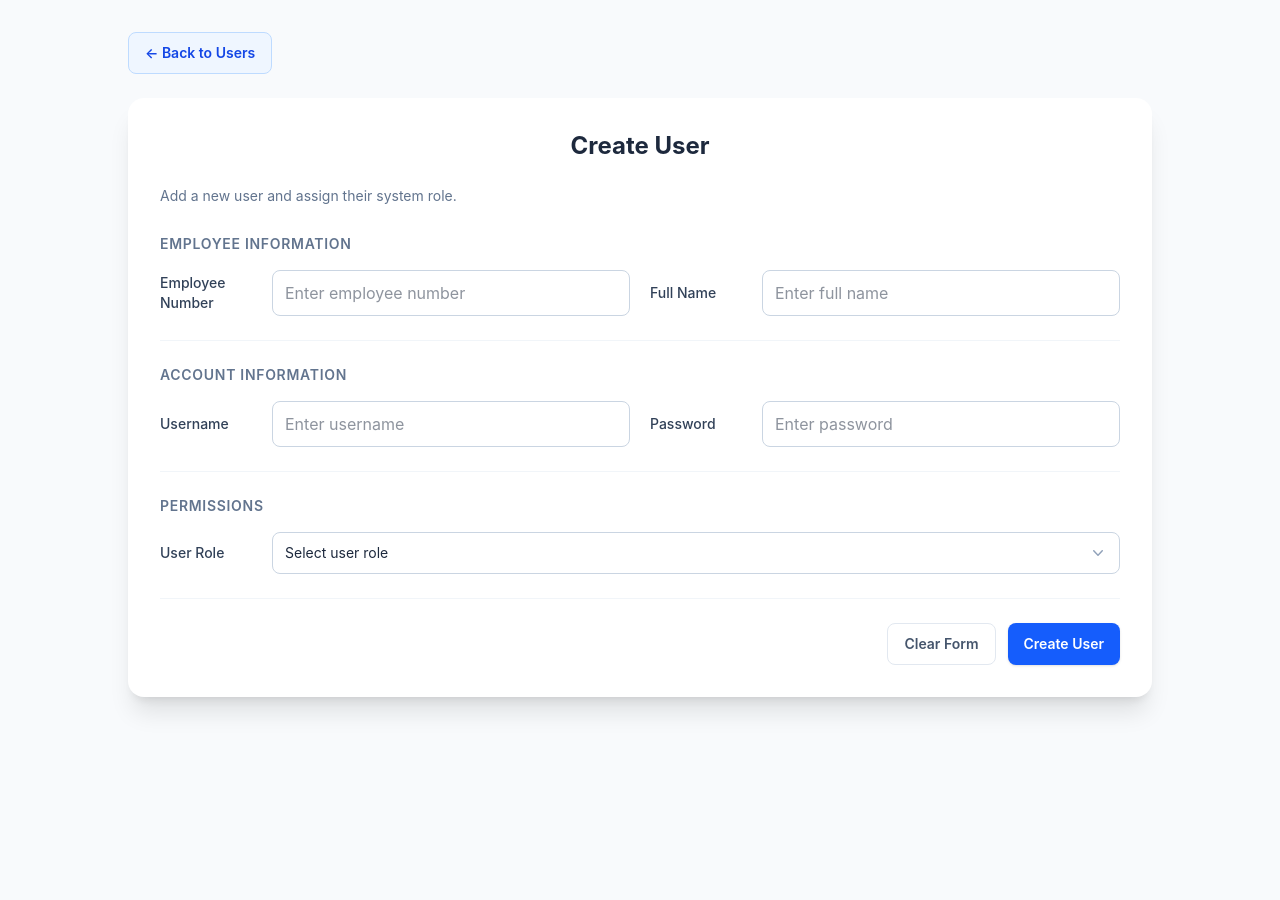
Test case: CreateUser page › shows a create error and preserves the form when the API fails
The width and height of the screenshot is (1280, 900).
Type "EMP-2021" into the field labelled "Employee Number" at (451, 293), box [272,270,630,316]
Type "Taylor Technician" into the field labelled "Full Name" at (941, 293), box [762,270,1120,316]
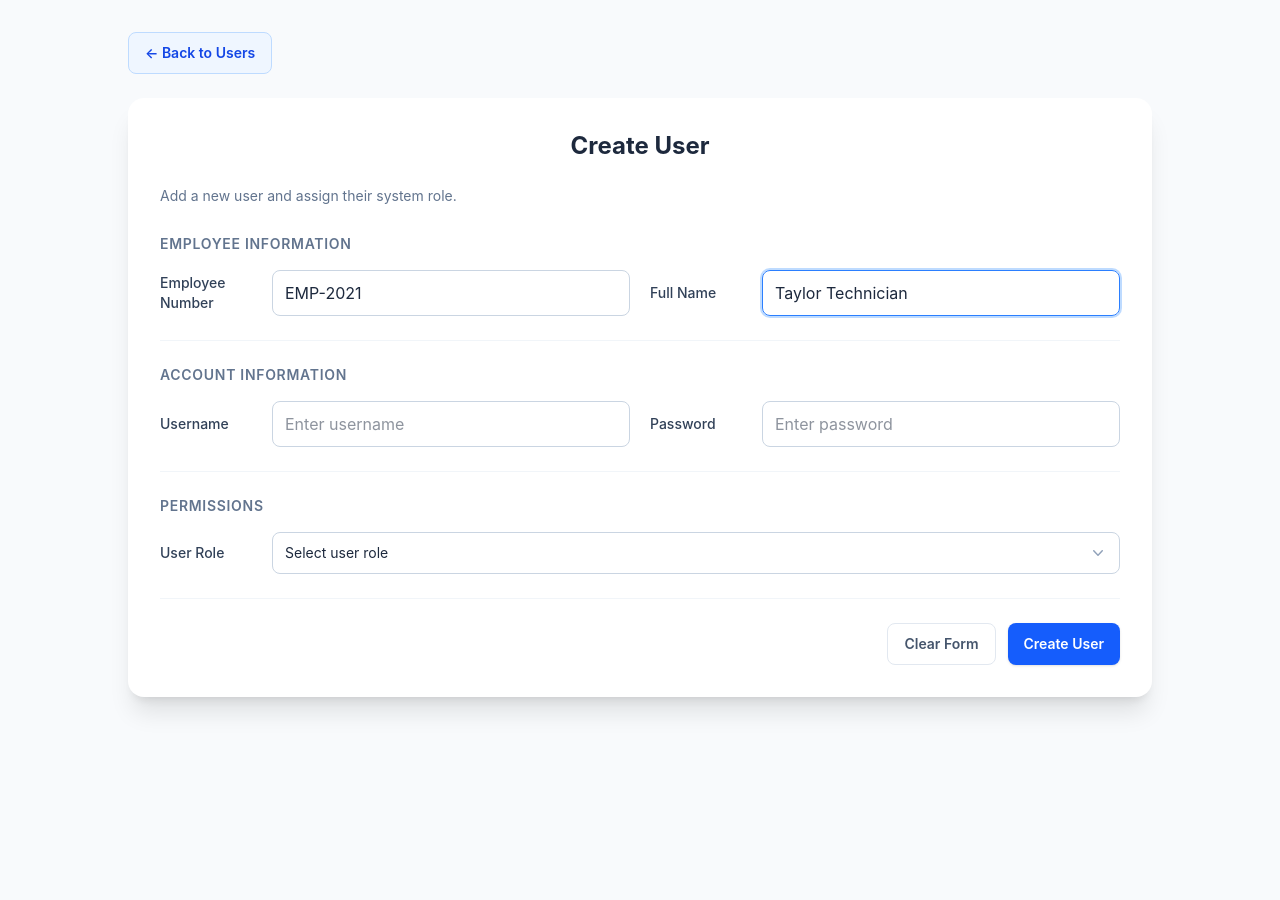
Type "taylor.t" into the field labelled "Username" at (451, 424), box [272,401,630,447]
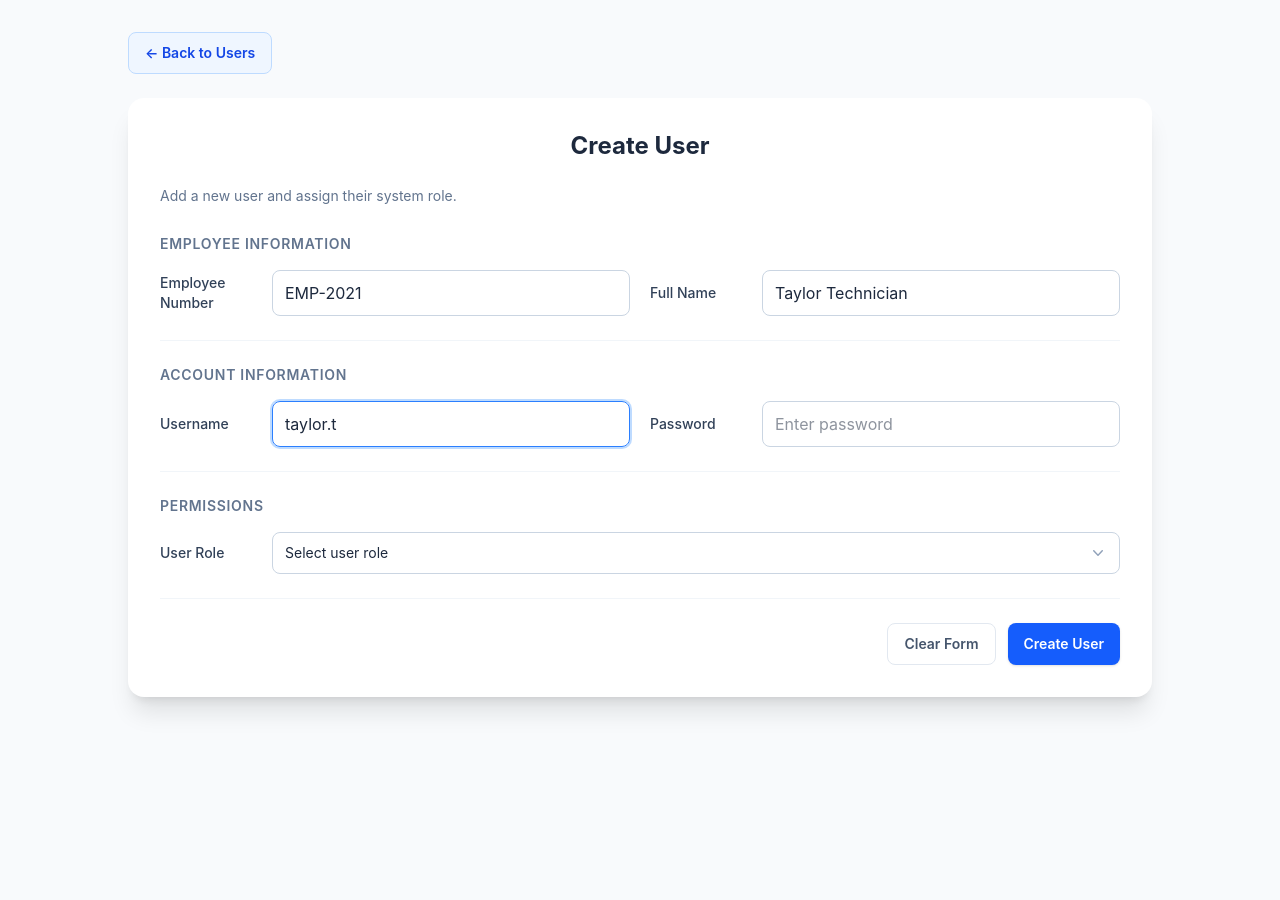
Type "secure-password" into the password field labelled "Password" at (941, 424), box [762,401,1120,447]
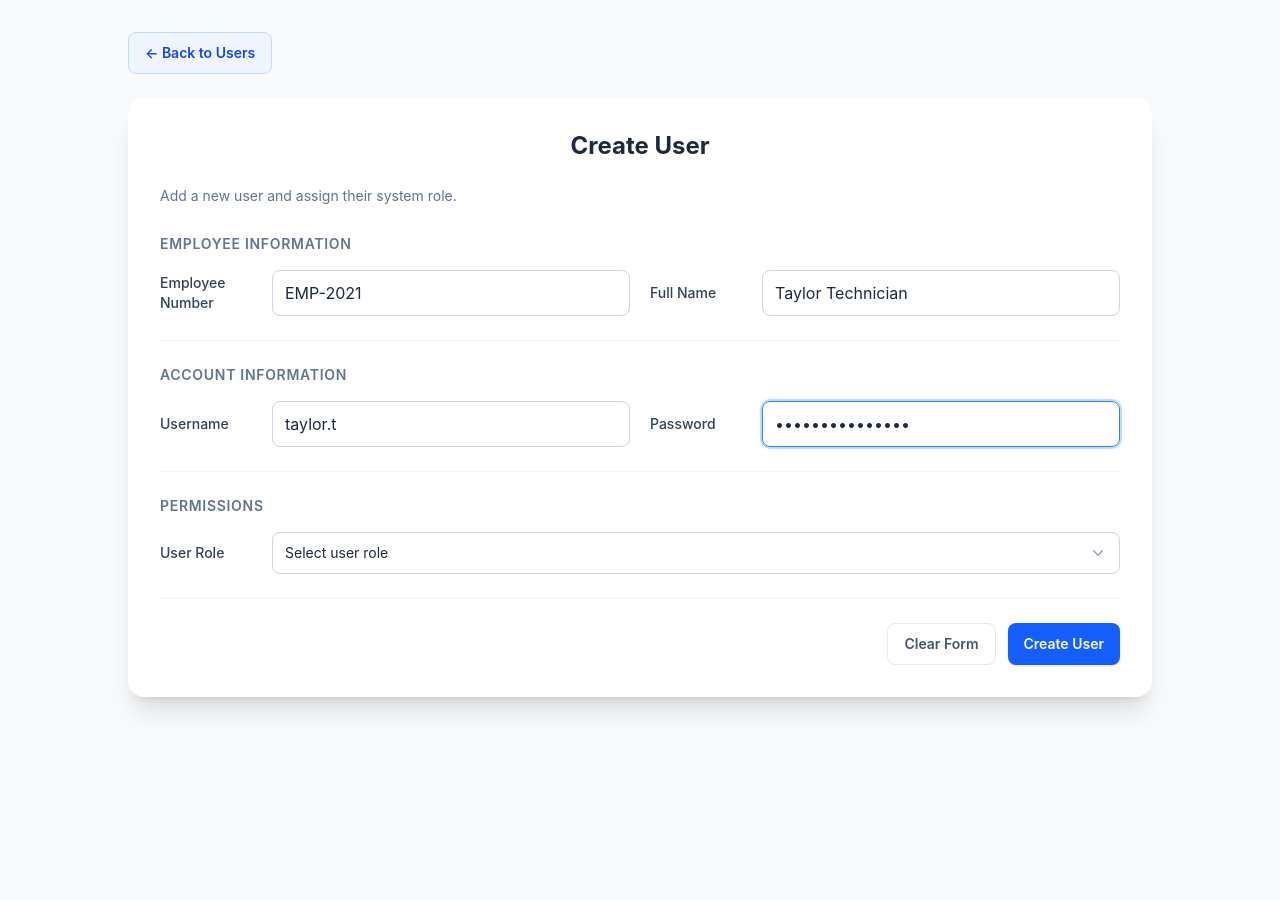
Select "Technician" in the dropdown labelled "User Role" at (696, 553), box [272,532,1120,574]
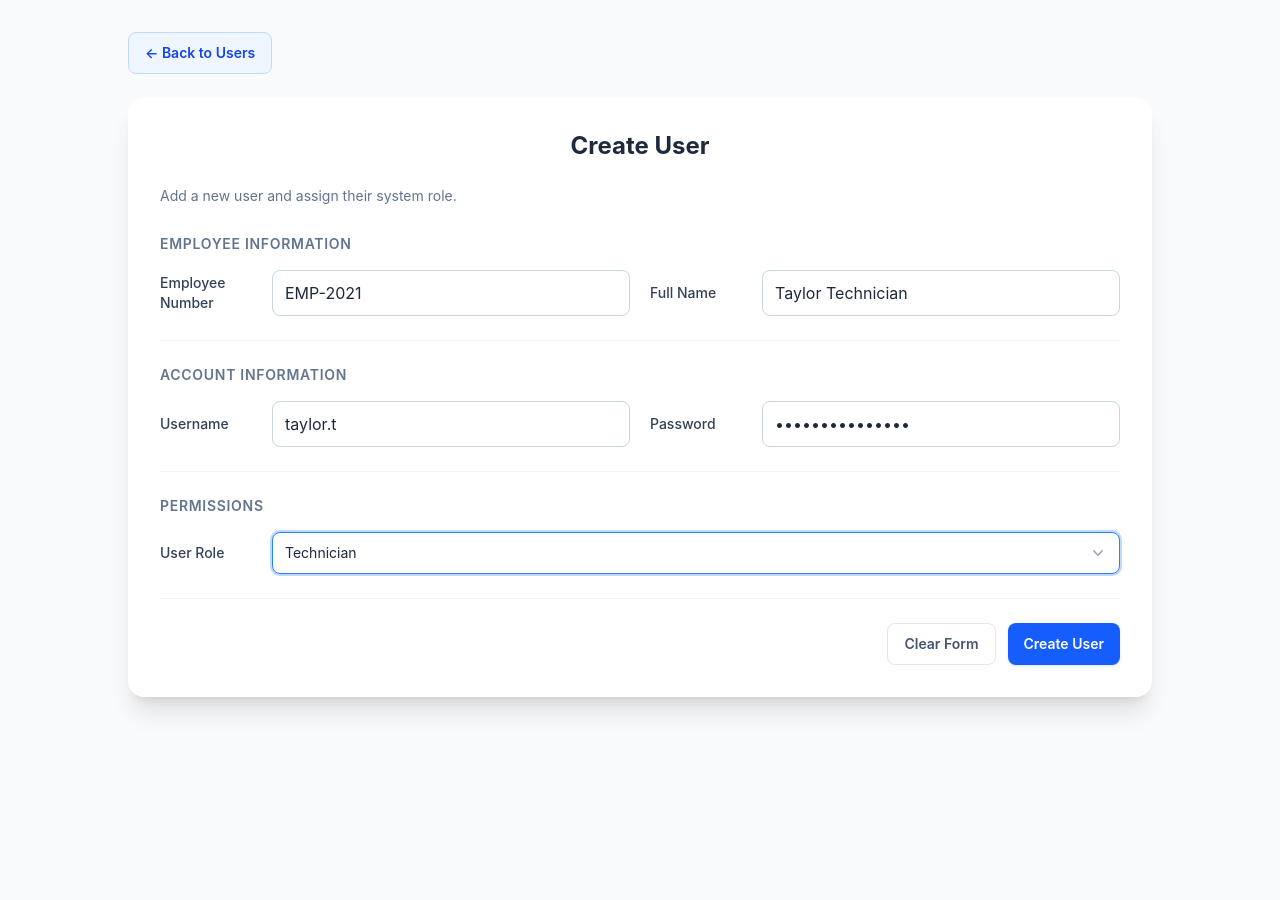
Click the button "Create User" at (1064, 644), box [1008,623,1120,665]
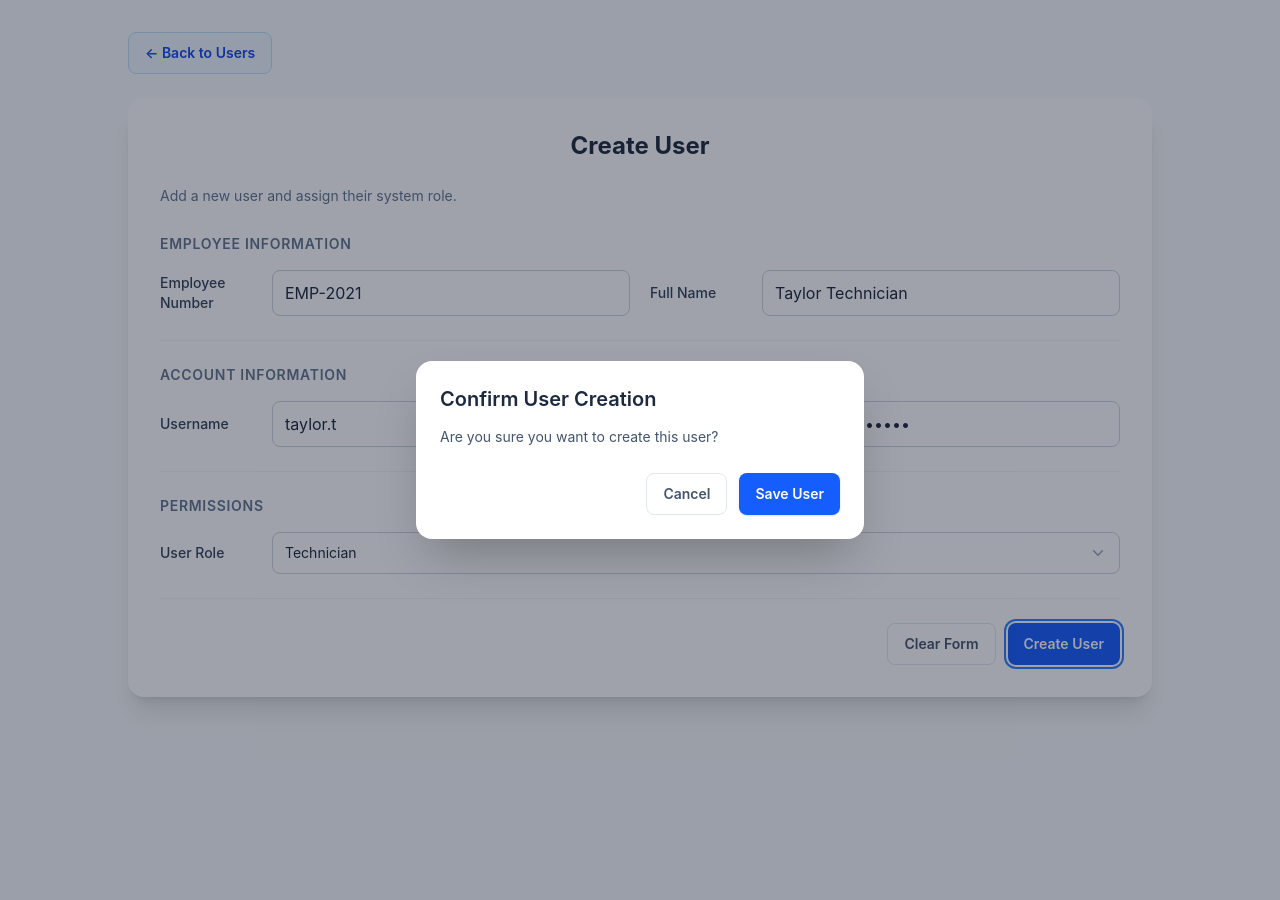
Click the button "Save User" at (790, 494), box [740,473,840,515]
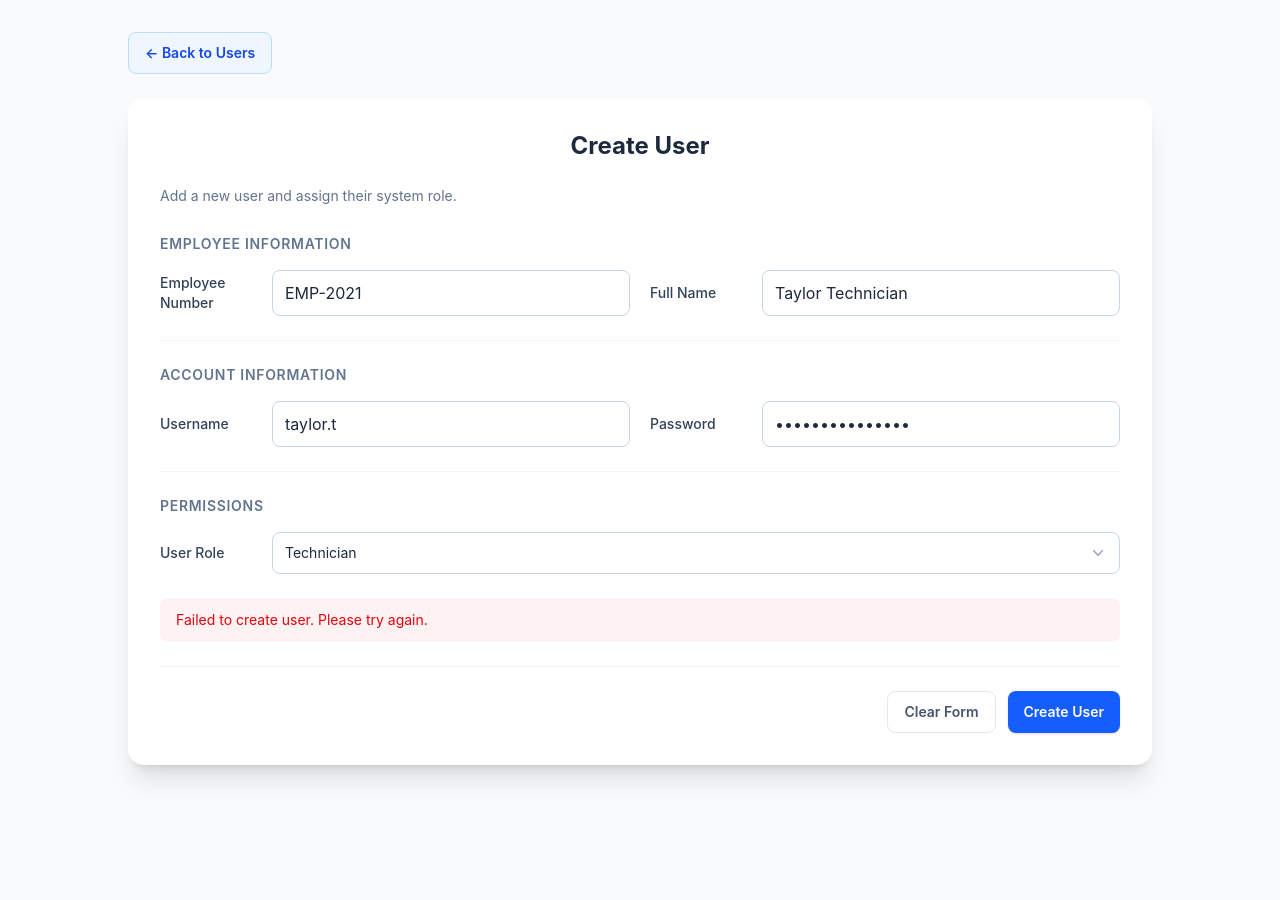
Result: the text "Failed to create user. Please try again." is shown at [160,598,1120,642]
Result: the heading "Confirm User Creation" is gone
